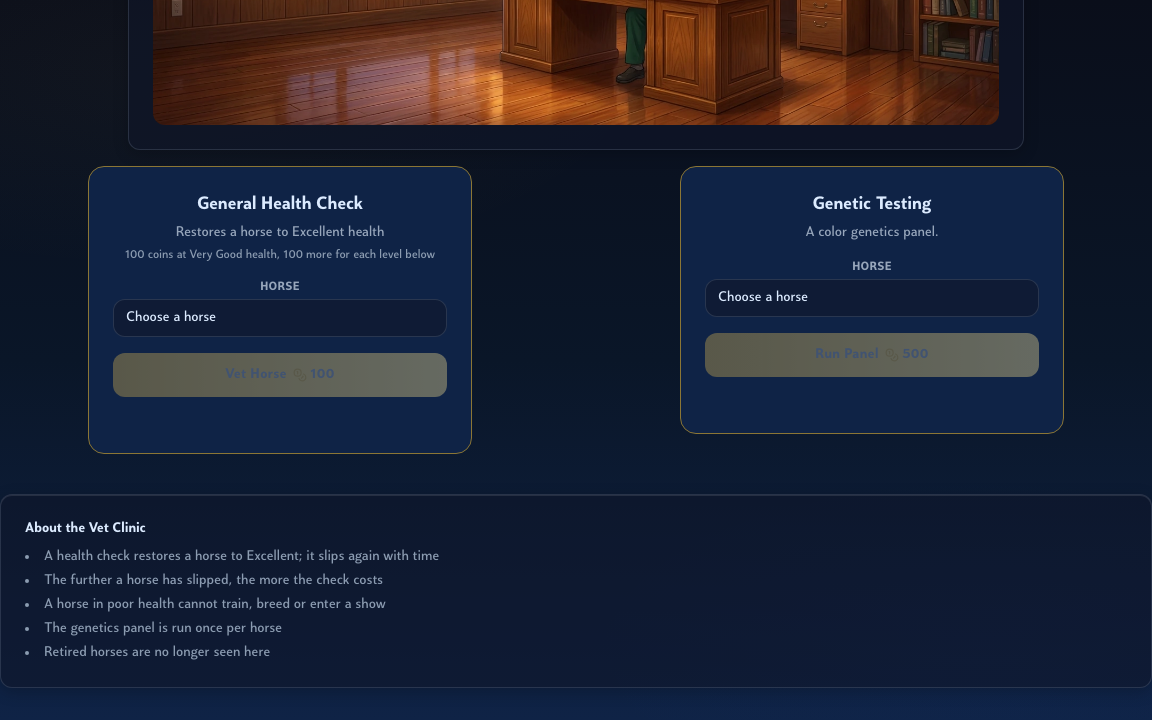
Test case: VeterinarianPage (Equoria-7dmzp) › tells the player when the server says the horse was already tested (409)
The image size is (1152, 720).
(page scrolled)
Select "Due Mare" in the dropdown labelled "Horse" below "A color genetics panel.". click: [872, 298]
box: 705,279 -> 1039,317
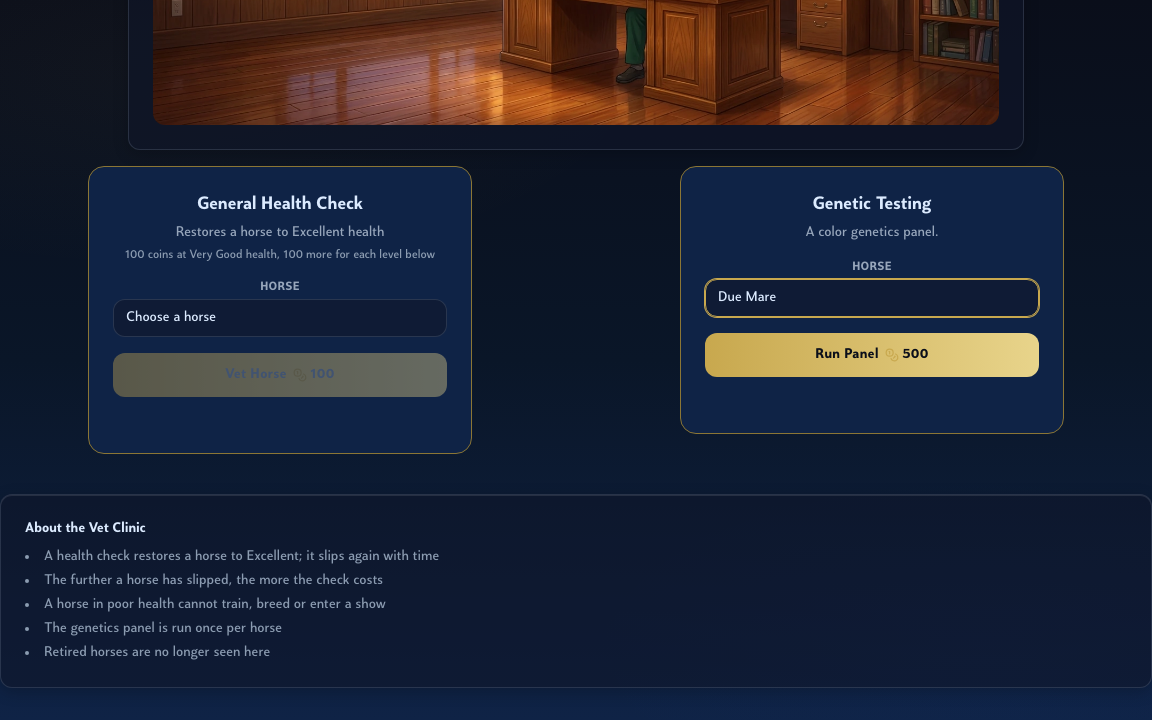
Click the button "Run Panel 500". click: [872, 355]
box: 705,333 -> 1039,377
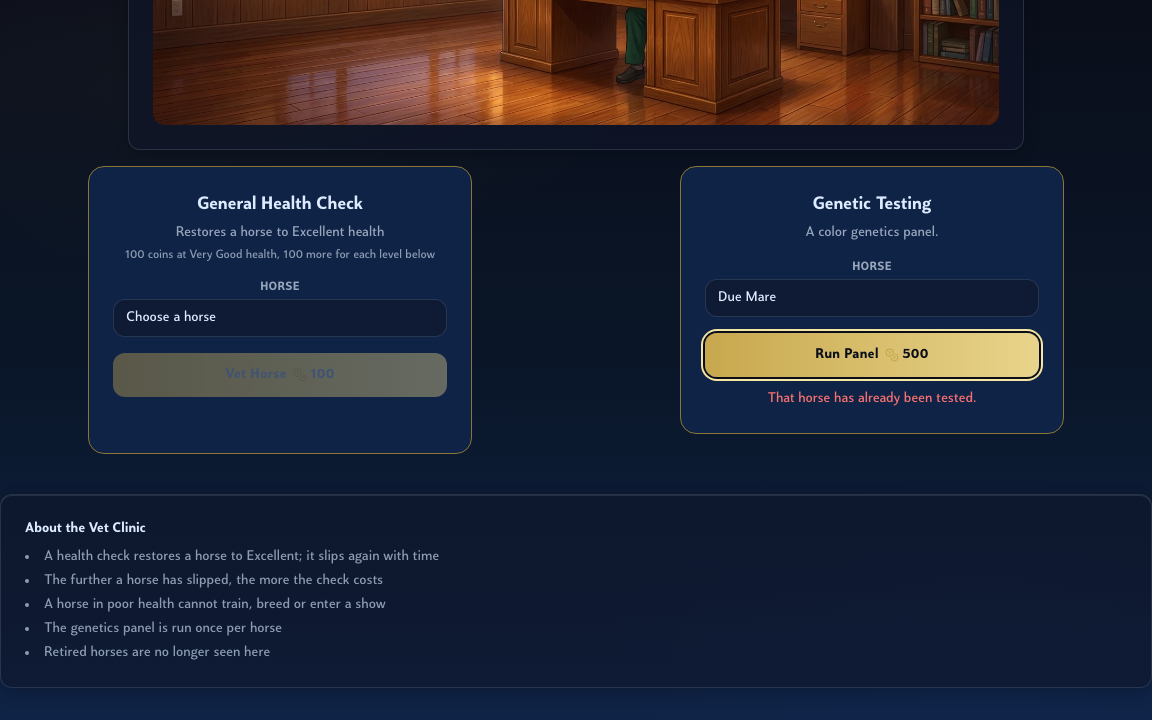
expect the message reads "That horse has already been tested.": met, box 768,391 -> 976,406
